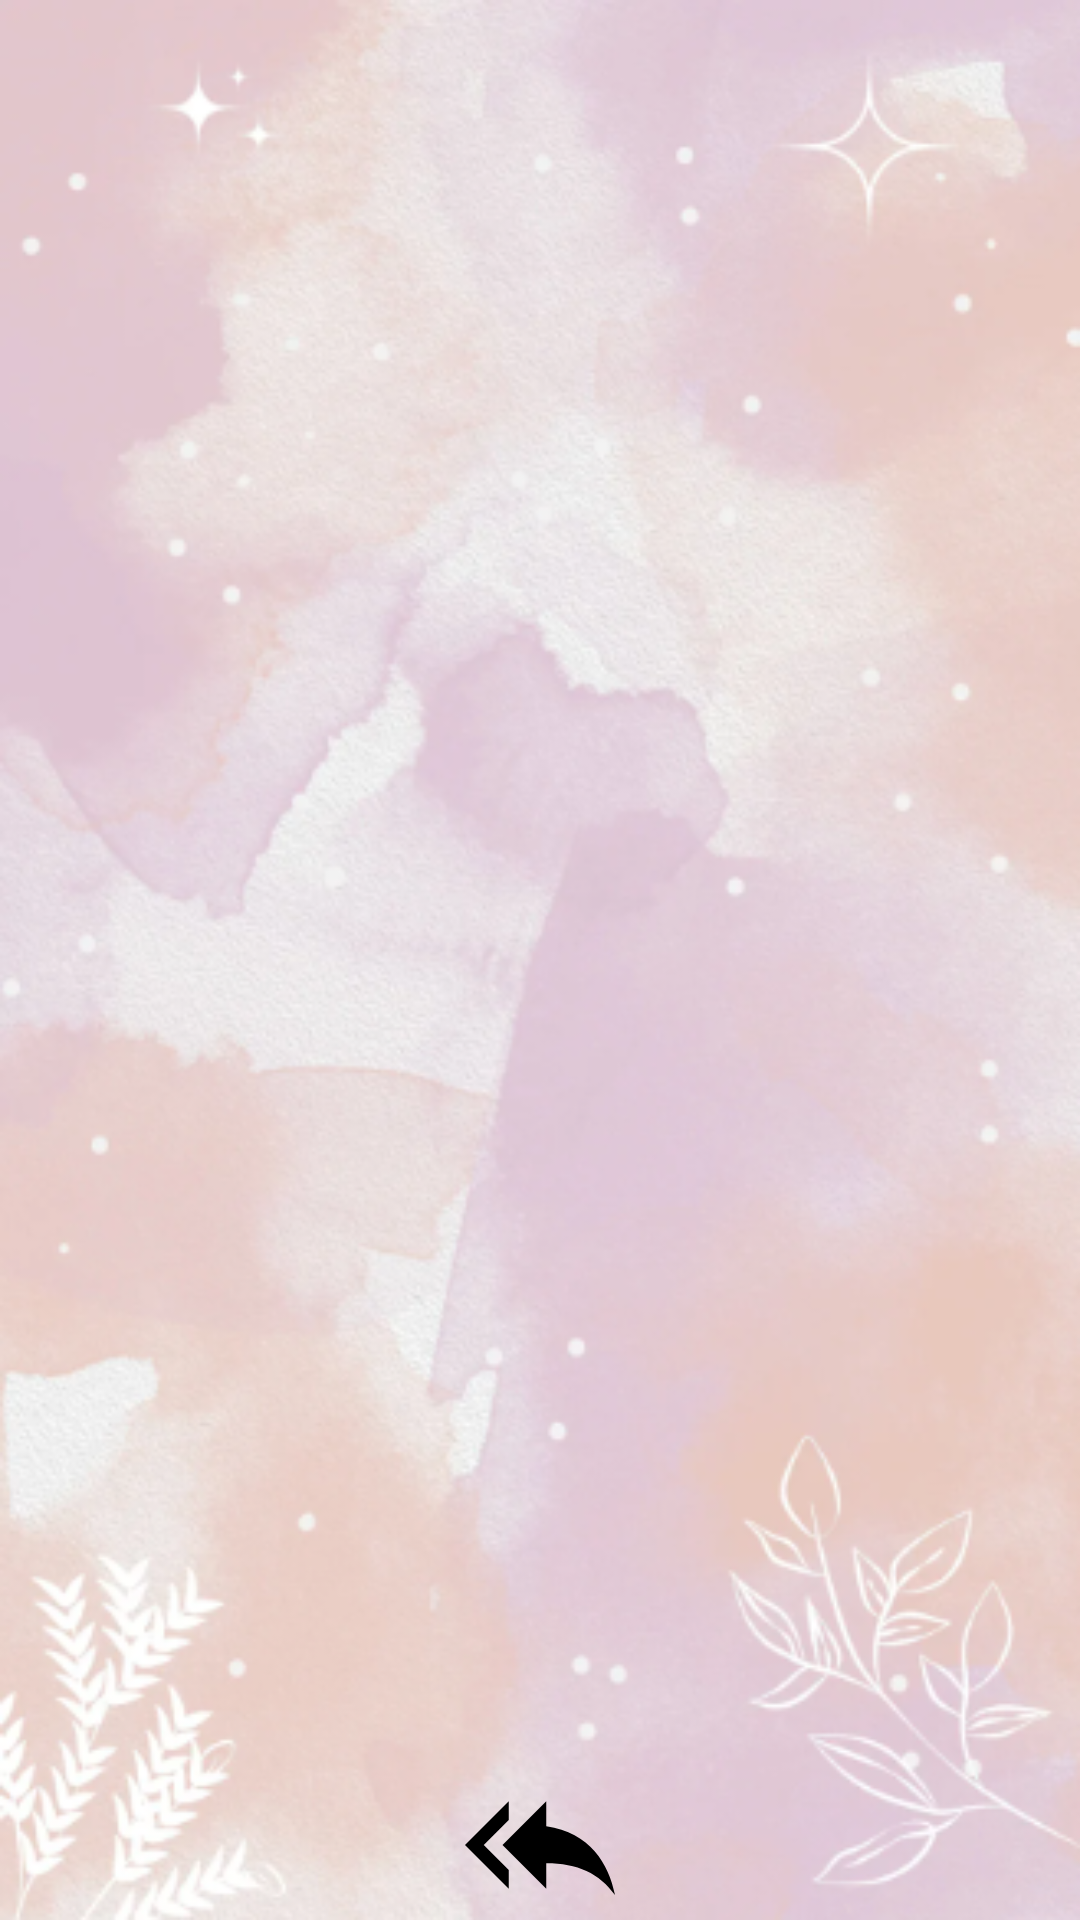

Icon bounding boxes for this 1080*1920 phone screenshot, format (x1, y1, x2, y2):
vecotr goback: (465, 1801, 615, 1895)
